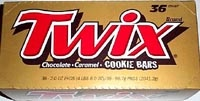grozi_11: (0, 0, 200, 101)
